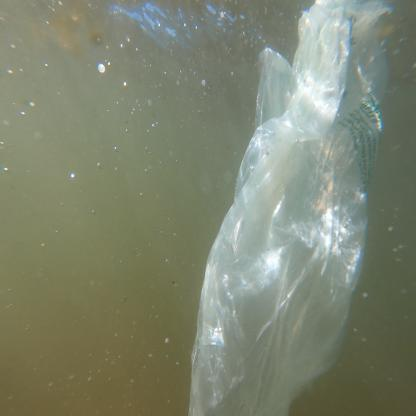Rác: (192, 13, 414, 406)
